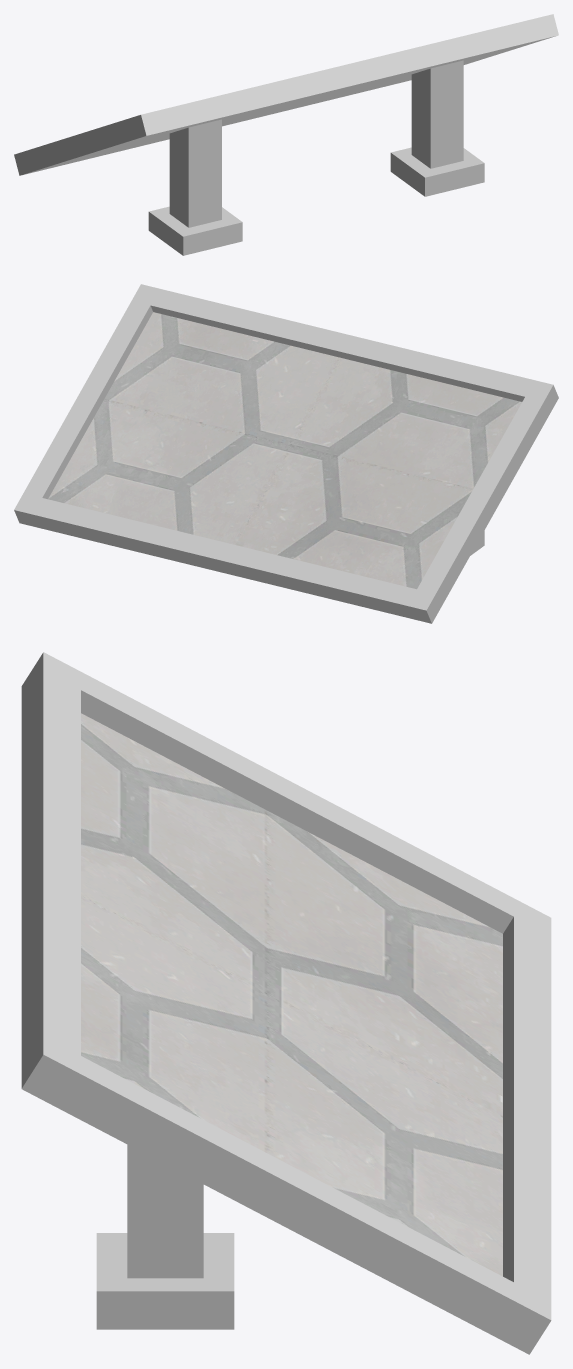
The model's file is SolarPannorm.obj.
3 renders of one model, top to bottom at view 1: azimuth 30°, elevation 25°; view 2: azimuth 150°, elevation 25°; view 3: azimuth 270°, elevation 25°, orthographic. The views are drawn at different scales.
Bounding box in the file's own units: 0.9 × 0.343 × 0.5007.
